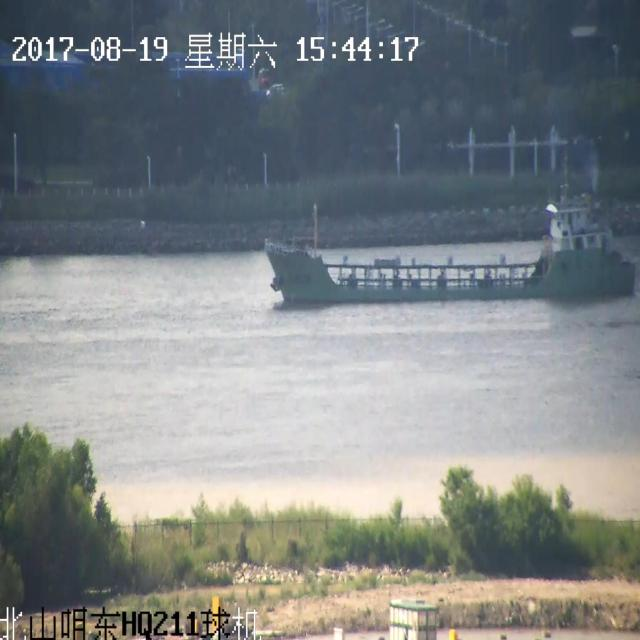houseboat: (237, 182, 635, 303)
